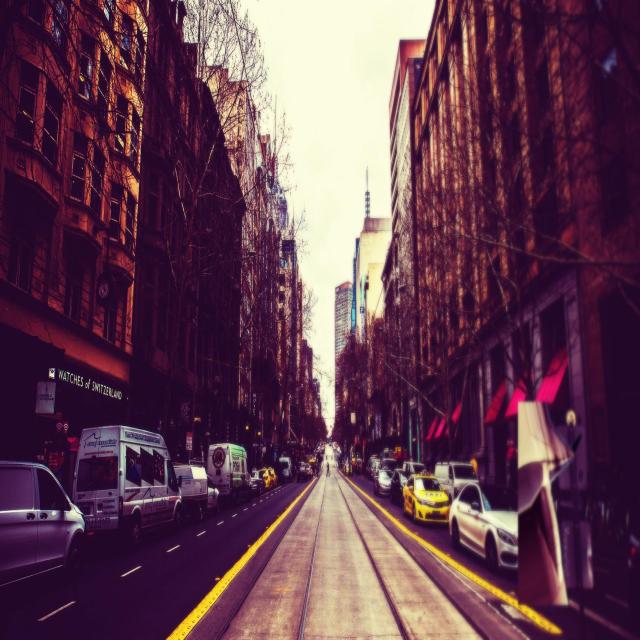airplane: (518, 405, 570, 606)
